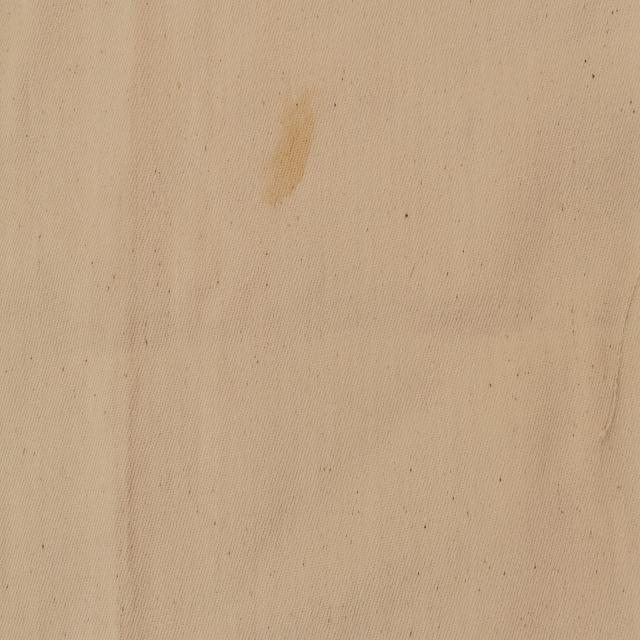taaaches: (269, 77, 317, 219)
